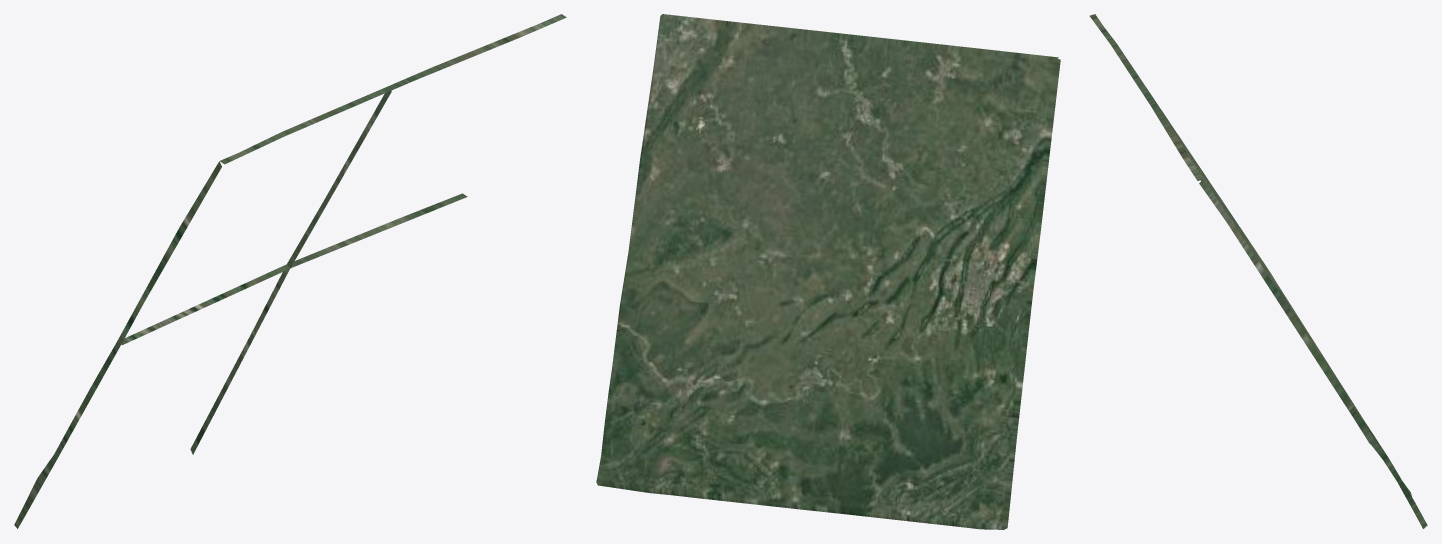
3 views of the same model, side by side, from view 1: azimuth 30°, elevation 25°; view 2: azimuth 150°, elevation 25°; view 3: azimuth 270°, elevation 25° (orthographic). The views are drawn at different scales.
Bounding box in the file's own units: 307998 × 276184 × 225161.
Materials: 1 (1 with a texture image).
